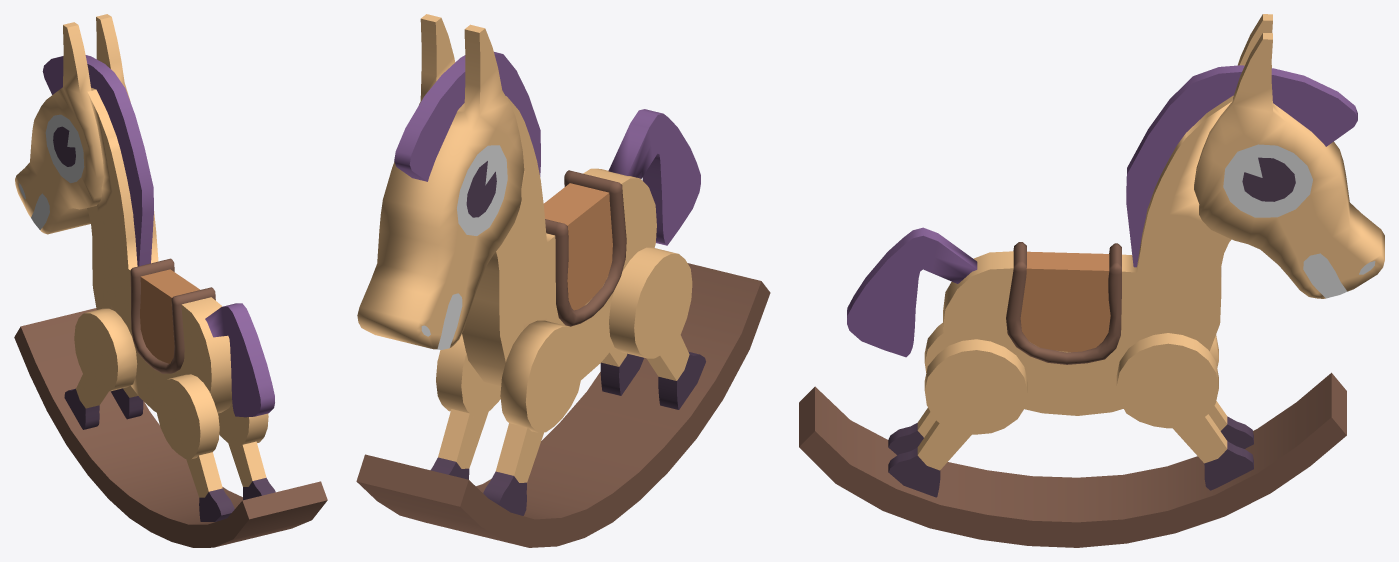
The model's file is props_RockingHorse.fbx.
3 renders of one model, left to right at view 1: azimuth 30°, elevation 25°; view 2: azimuth 150°, elevation 25°; view 3: azimuth 270°, elevation 25°, orthographic. The views are drawn at different scales.
Visible parts, largest first — view 1: body.001; view 2: body.001; view 3: body.001.
Part boxes in pixels (bbox=[...]): body.001: bbox=[14, 14, 327, 547]; body.001: bbox=[356, 14, 770, 547]; body.001: bbox=[799, 14, 1384, 547].
Size of the model in its own units: 0.3003 by 1.66 by 1.56.
